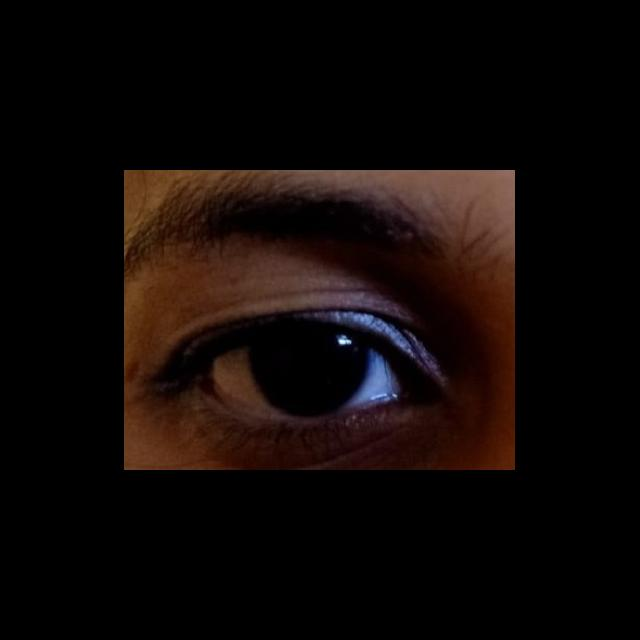eye: (202, 328, 402, 416)
iris: (250, 331, 370, 412)
